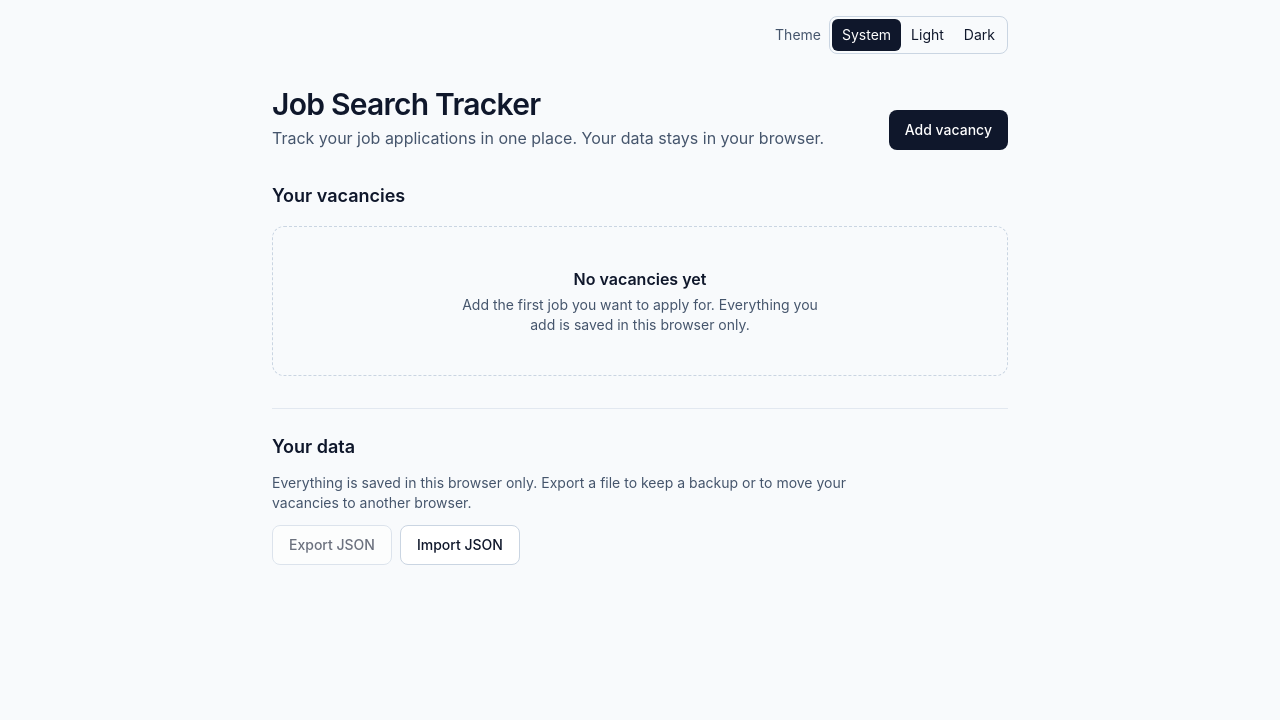
Test: JobsPage › shows an error in the dialog when saving fails
Expected: the heading "No vacancies yet" is shown, top-left (574, 269), bottom-right (706, 289)
Click the button "Add vacancy" at (948, 130), box top-left (889, 110), bottom-right (1008, 150)
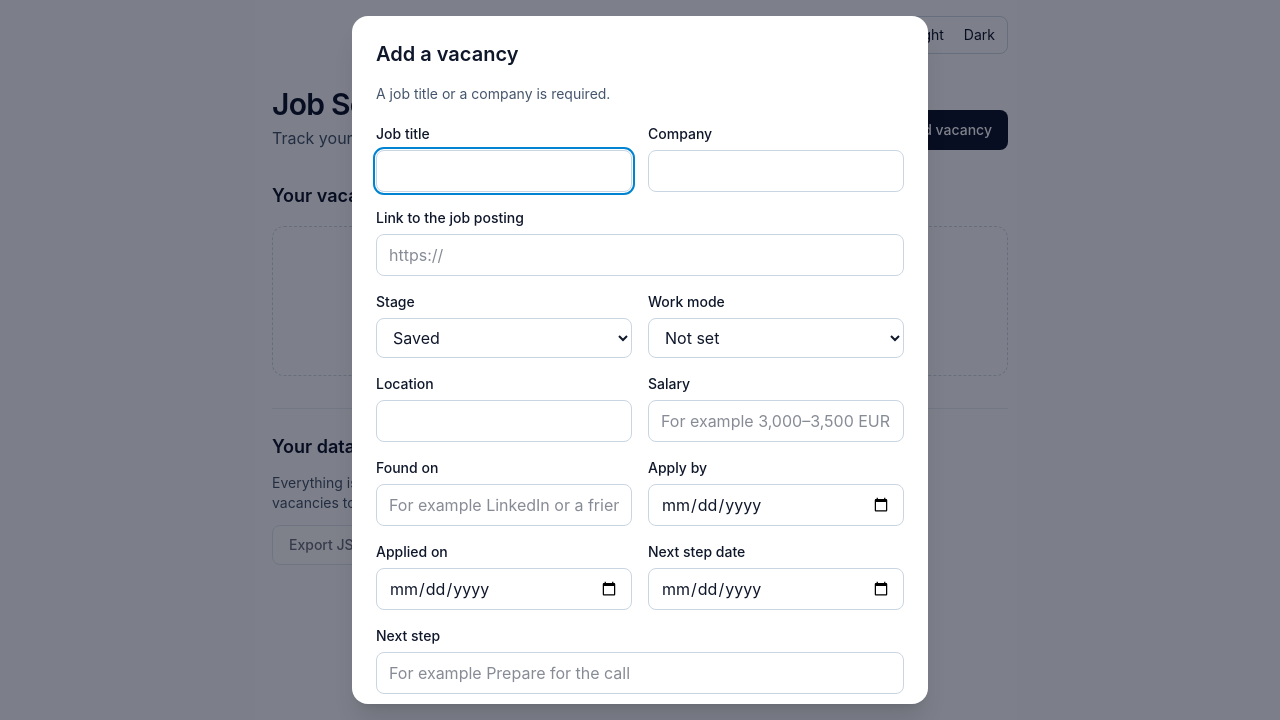
Type "Designer" into the field labelled "Job title" at (504, 171), box top-left (376, 150), bottom-right (632, 192)
(page scrolled)
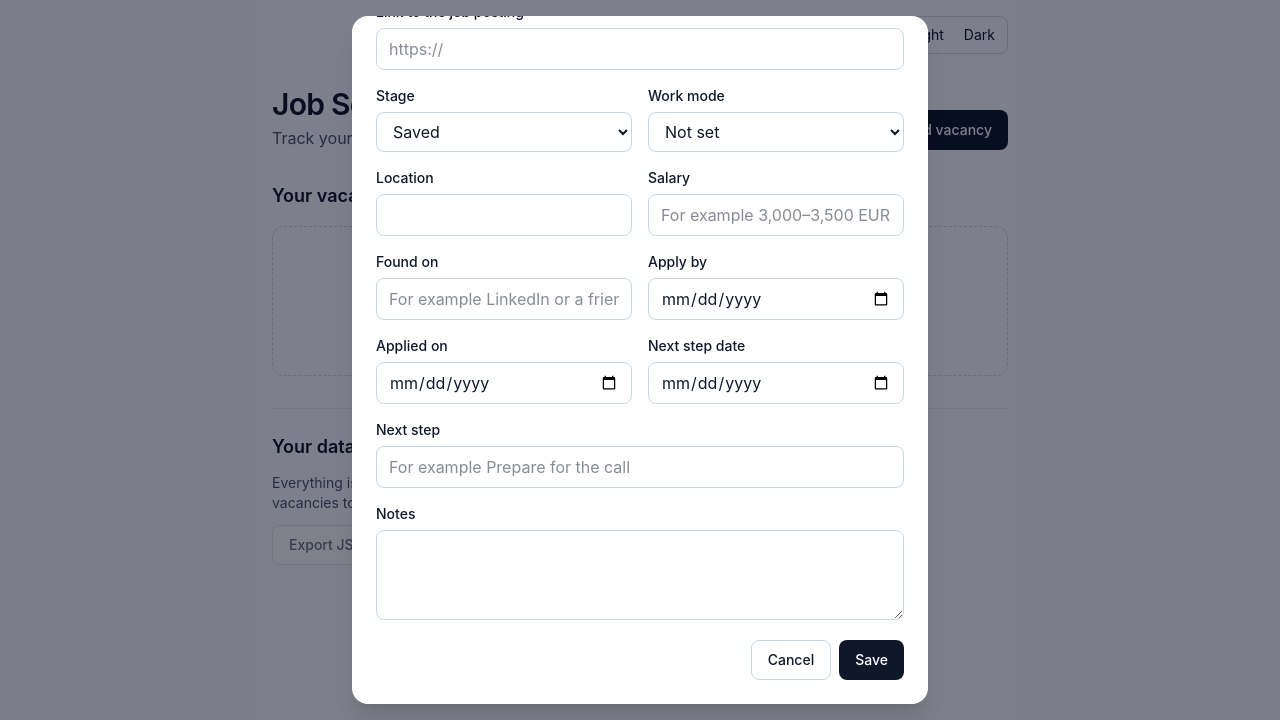
Click the button "Save" at (872, 660), box top-left (839, 640), bottom-right (904, 680)
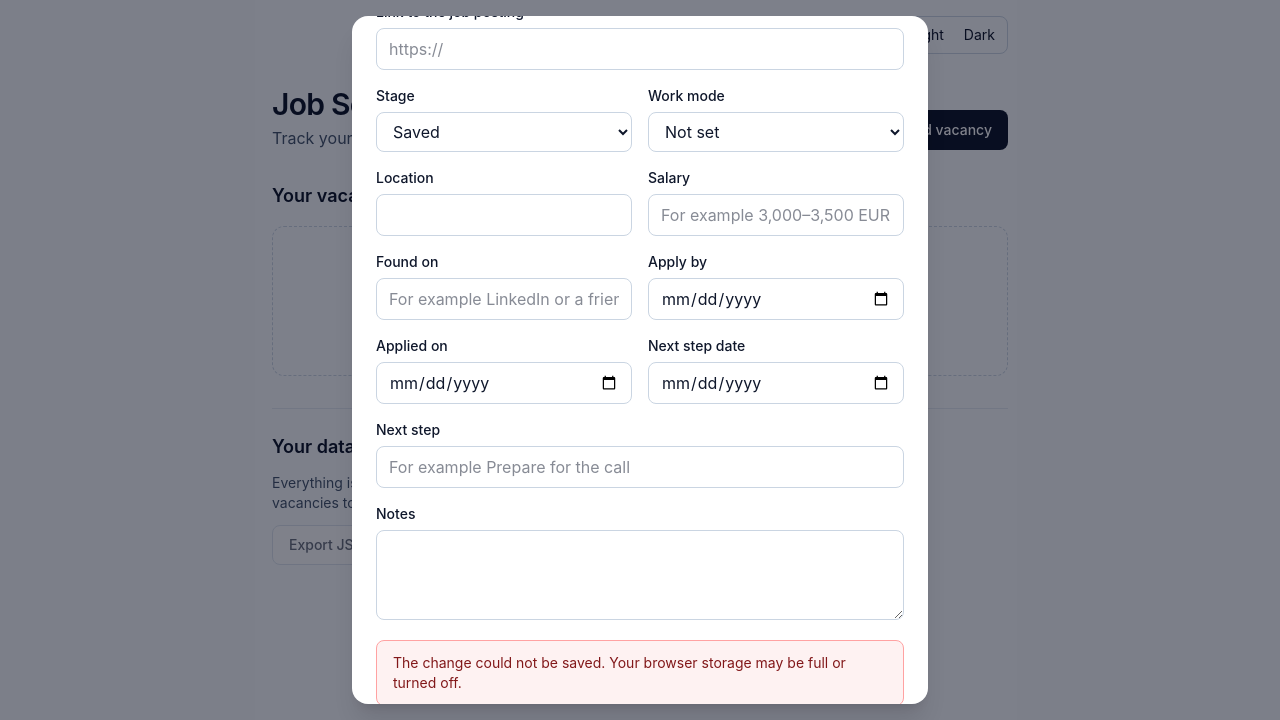
Expected: the dialog is shown, top-left (352, 16), bottom-right (928, 704)
Expected: the message reads "The change could not be saved. Your browser storage may be full or turned off.", top-left (393, 654), bottom-right (846, 691)
